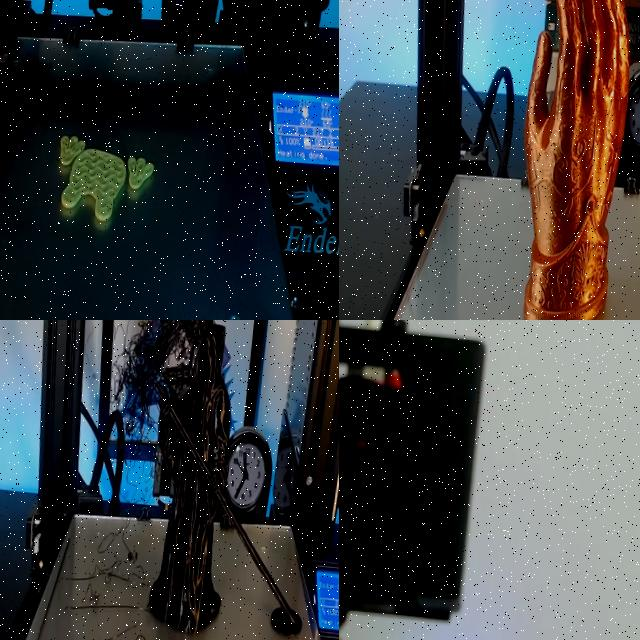spaghetti: (108, 320, 207, 444)
